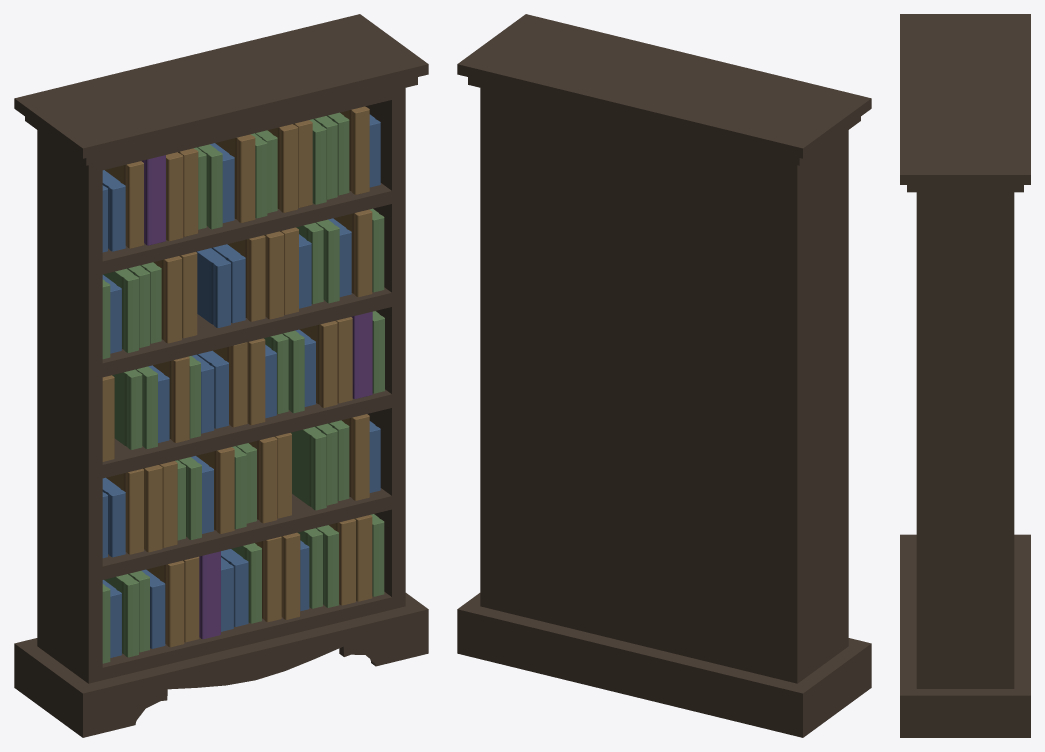
File: booksmissing.fbx
3 views of the same model, side by side, from view 1: azimuth 30°, elevation 25°; view 2: azimuth 150°, elevation 25°; view 3: azimuth 270°, elevation 25° (orthographic). The views are drawn at different scales.
Parts seen in each view (by area): view 1: mainPiece, bookM_low, bookS_low, topPiece, bookXS_low, bottomPiece, bookL_low; view 2: mainPiece, topPiece, bottomPiece; view 3: mainPiece, topPiece, bottomPiece.
Part boxes in pixels (bbox=[...]): mainPiece: bbox=[37, 88, 405, 683]; bookM_low: bbox=[102, 106, 372, 647]; bookS_low: bbox=[102, 112, 384, 663]; topPiece: bbox=[14, 14, 428, 165]; bookXS_low: bbox=[102, 114, 380, 657]; bottomPiece: bbox=[14, 593, 428, 737]; bookL_low: bbox=[141, 155, 372, 639]; mainPiece: bbox=[480, 88, 848, 683]; topPiece: bbox=[457, 14, 871, 165]; bottomPiece: bbox=[457, 593, 871, 737]; mainPiece: bbox=[916, 192, 1014, 688]; topPiece: bbox=[900, 14, 1030, 192]; bottomPiece: bbox=[900, 534, 1030, 737].
Bounding box in the file's own units: 127 × 207 × 43.68.
